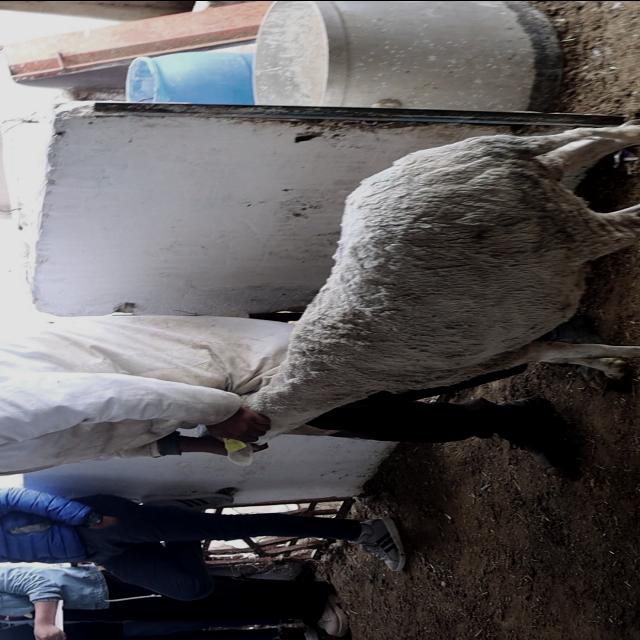Score_5: (245, 120, 639, 442)
